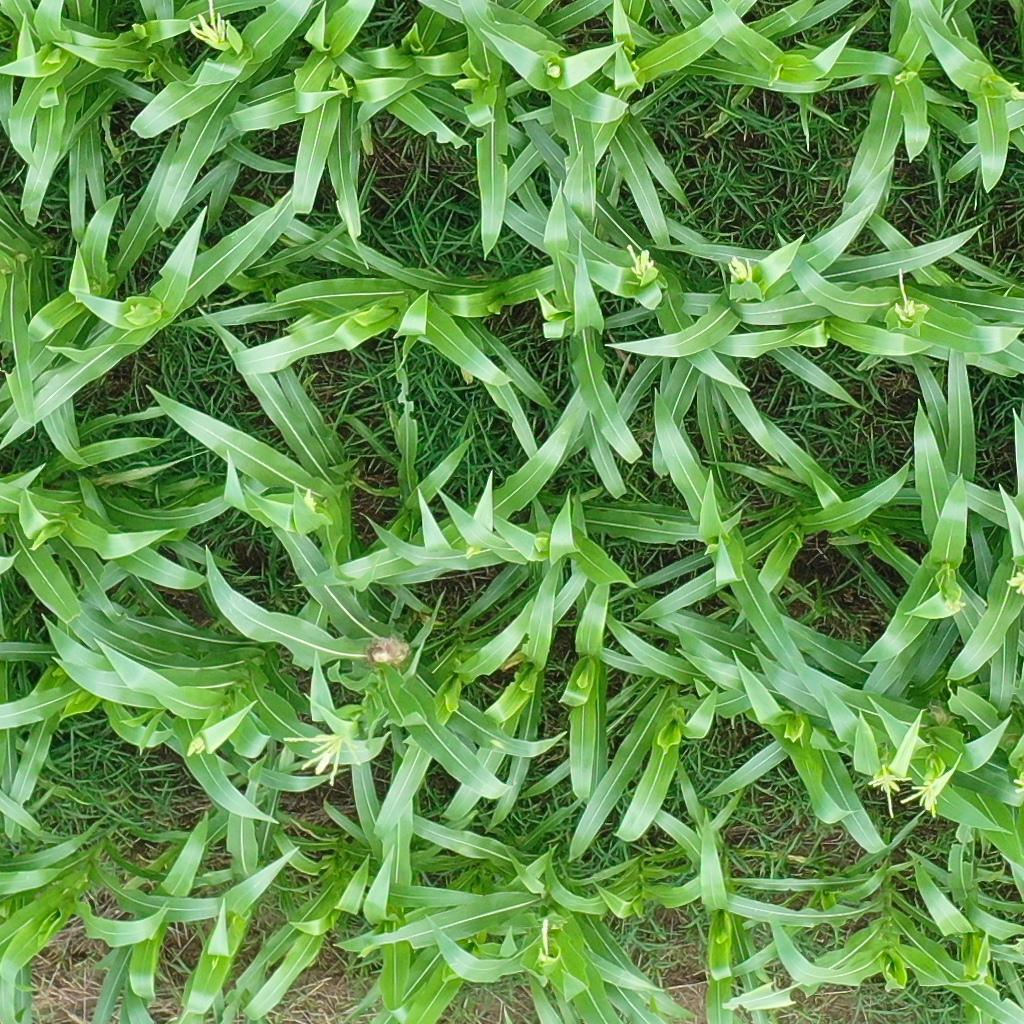Tassel: (865, 760, 950, 823), (278, 728, 365, 787), (184, 1, 236, 49), (892, 264, 923, 331), (625, 241, 660, 284), (727, 258, 753, 289), (183, 733, 208, 761), (943, 591, 969, 617), (1007, 566, 1024, 603), (301, 485, 320, 517), (1008, 82, 1024, 102)
